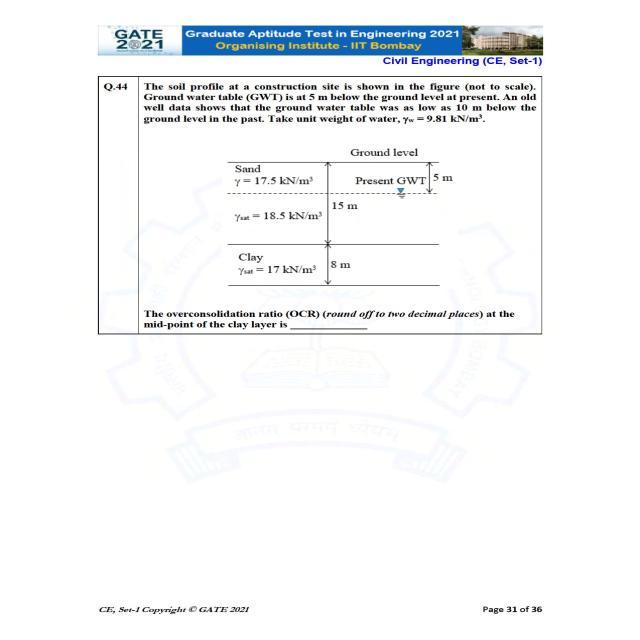Answer_Block: (75, 295, 571, 344)
Question_Answer_Block: (75, 70, 571, 381)
Question_Block: (73, 70, 571, 286)
Question_Paper_Area: (73, 69, 573, 384)
